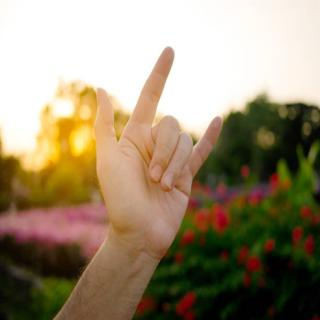I Love You: (74, 40, 214, 246)
